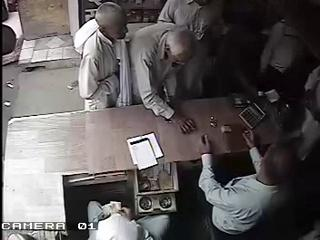Normal: (197, 109, 301, 240), (129, 22, 201, 134), (87, 195, 170, 240), (239, 102, 266, 130)
shoplifting: (73, 2, 133, 111)
